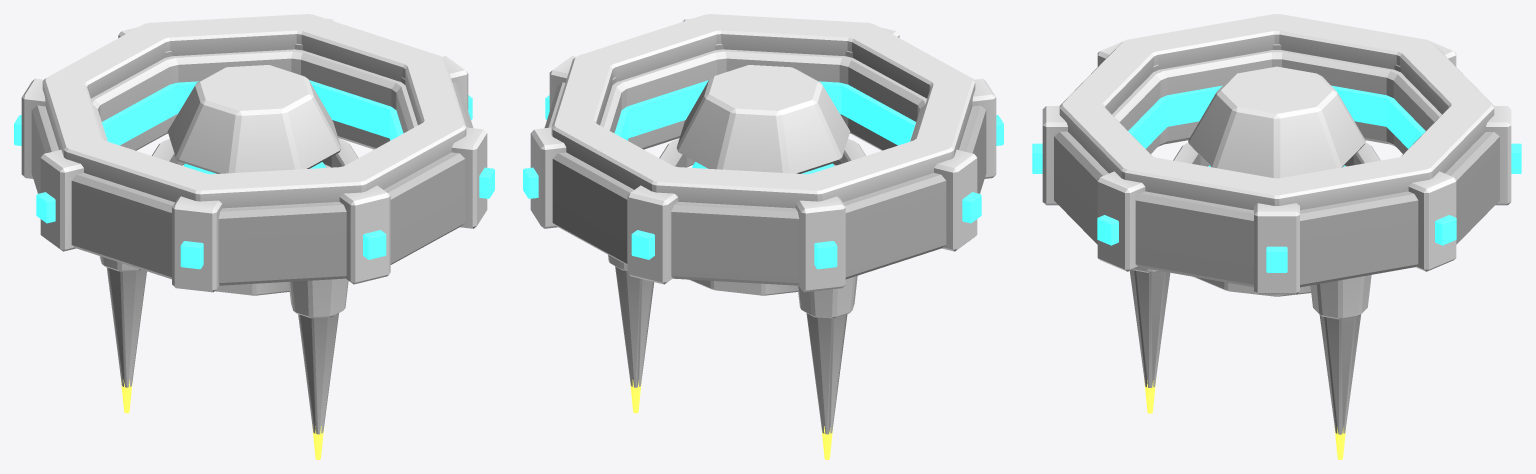
File: e1_sky_jelly.glb
3 renders of one model, left to right at view 1: azimuth 30°, elevation 25°; view 2: azimuth 150°, elevation 25°; view 3: azimuth 270°, elevation 25°, orthographic.
Visible parts, largest first — view 1: ArmoredHalo, TrimHaloTop, TopCap, GlowInnerRim, ArmorBlock_5, ArmorBlock_6, ProngSpike_0, ProngSpike_2, ArmorBlock_4, ArmorBlock_7, ProngBase_0, ArmorBlock_3 (+6 smaller); view 2: ArmoredHalo, TrimHaloTop, TopCap, GlowInnerRim, ArmorBlock_3, ArmorBlock_2, ProngSpike_2, ProngSpike_1, ArmorBlock_4, ArmorBlock_1, ProngBase_2, ArmorBlock_5 (+6 smaller); view 3: ArmoredHalo, TrimHaloTop, TopCap, GlowInnerRim, ArmorBlock_0, ArmorBlock_1, ArmorBlock_7, ProngSpike_1, ProngSpike_0, ProngBase_1, ArmorBlock_2, ArmorBlock_6 (+5 smaller).
Boxes of the visible parts, x1,y1,x2,y2 form: ArmoredHalo: (31,49,473,285); TrimHaloTop: (42,14,466,208); TopCap: (167,65,341,173); GlowInnerRim: (102,80,403,145); ArmorBlock_5: (172,196,222,292); ArmorBlock_6: (339,185,390,284); ProngSpike_0: (298,313,338,434); ProngSpike_2: (106,267,146,387); ArmorBlock_4: (40,149,83,251); ArmorBlock_7: (451,127,487,228); ProngBase_0: (288,278,348,318); ArmorBlock_3: (21,78,45,178); ArmoredHalo: (544,49,986,285); TrimHaloTop: (551,14,975,208); TopCap: (676,65,850,173); GlowInnerRim: (614,80,915,145); ArmorBlock_3: (795,196,845,292); ArmorBlock_2: (627,185,678,284); ProngSpike_2: (806,313,847,434); ProngSpike_1: (615,266,654,387); ArmorBlock_4: (934,149,977,251); ArmorBlock_1: (530,127,566,228); ProngBase_2: (797,275,857,318); ArmorBlock_5: (972,78,996,178); ArmoredHalo: (1054,50,1499,287); TrimHaloTop: (1059,14,1494,210); TopCap: (1188,66,1365,178); GlowInnerRim: (1128,85,1425,148); ArmorBlock_0: (1254,203,1299,294); ArmorBlock_1: (1408,171,1456,271); ArmorBlock_7: (1097,171,1145,271); ProngSpike_1: (1319,314,1361,434); ProngSpike_0: (1130,270,1170,387); ProngBase_1: (1310,275,1371,319); ArmorBlock_2: (1486,106,1511,205); ArmorBlock_6: (1042,106,1067,205).
Size of the model in its own units: 2.4 by 1.74 by 2.4.
